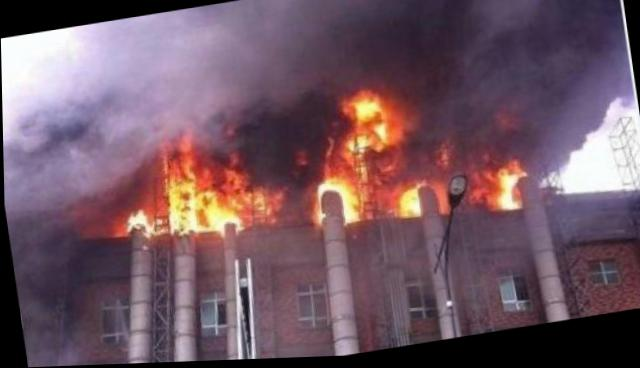fire: (160, 144, 200, 235), (195, 186, 243, 235), (489, 163, 522, 214), (222, 163, 253, 208), (332, 178, 360, 225), (342, 91, 381, 124), (365, 109, 393, 152), (392, 183, 423, 221), (338, 128, 369, 162), (246, 191, 277, 220), (126, 206, 149, 232), (317, 179, 337, 195)
